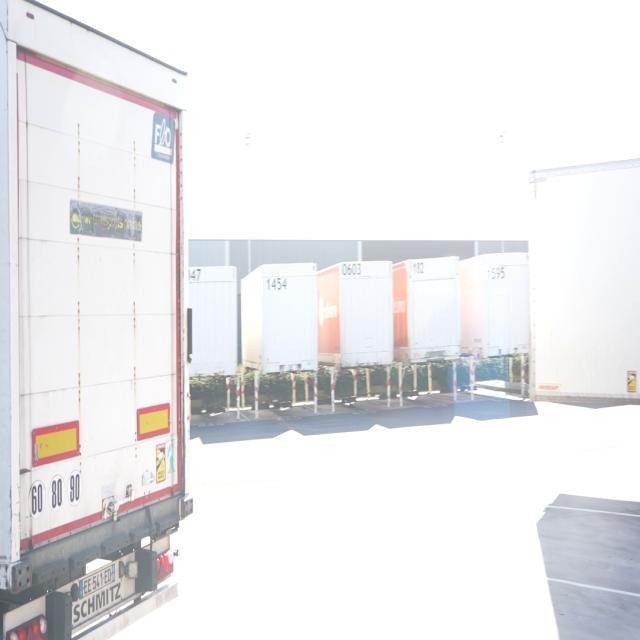Code: (338, 256, 365, 282), (483, 260, 510, 286), (264, 272, 290, 295), (411, 255, 428, 282)
